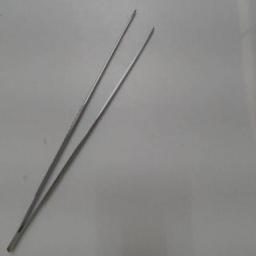DeBakey Dissector: (4, 0, 166, 254)
